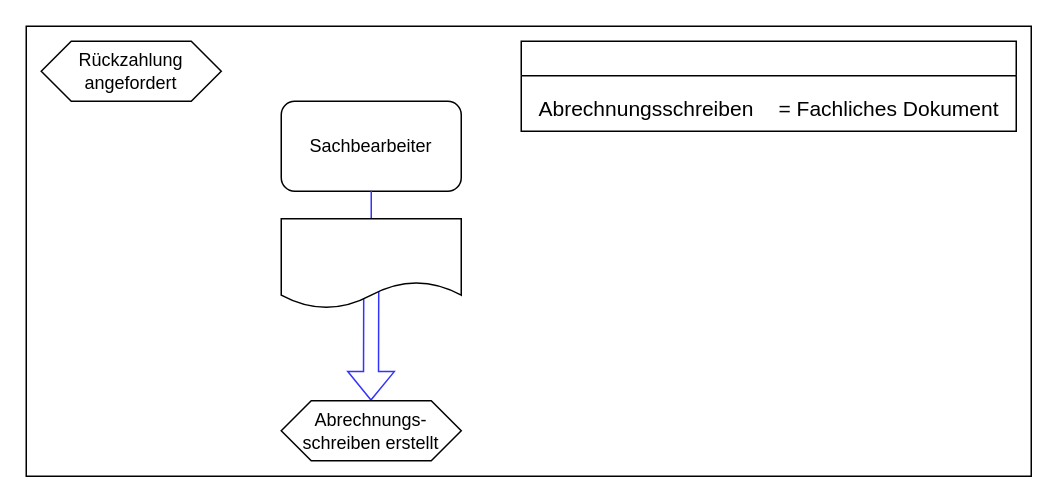
The diagram is 1058 pixels wide and 503 high, and some of its shapes have lost their labels. The shapes that lost their labels are listed below. From the top down, each one's box as (x1, y1, x2, y2) in pixels, then its label:
(520, 40, 1016, 131): Informations-Legende
(280, 217, 461, 309): Abrechnungs- schreiben wird erstellt
